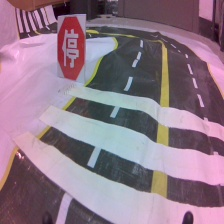stop: (56, 14, 87, 84)
